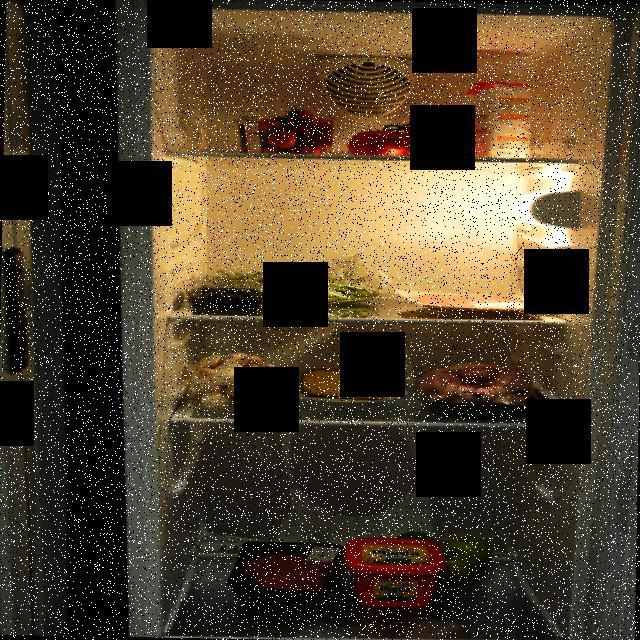Carne cerdo: (389, 286, 557, 314)
Carne pollo: (415, 360, 544, 420)
Carne vacuno: (238, 540, 331, 602)
Champiñones: (194, 351, 280, 414)
Mantequilla: (338, 532, 450, 616)
Manzana: (399, 530, 494, 582)
Queso: (299, 365, 389, 403)
Tomate: (348, 118, 454, 156)
blueberries: (190, 278, 264, 314)
green_beans: (202, 251, 392, 310)
strawberries: (227, 105, 341, 157)
sugar: (459, 77, 544, 161)
